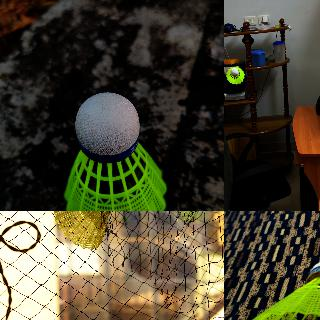shuttlecock: (63, 92, 166, 210), (239, 260, 319, 319), (53, 211, 121, 250), (226, 66, 244, 84)
